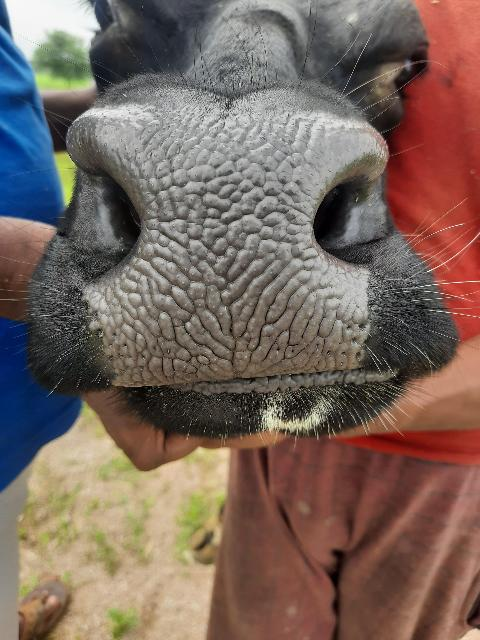Muzzle: (85, 111, 366, 387)
